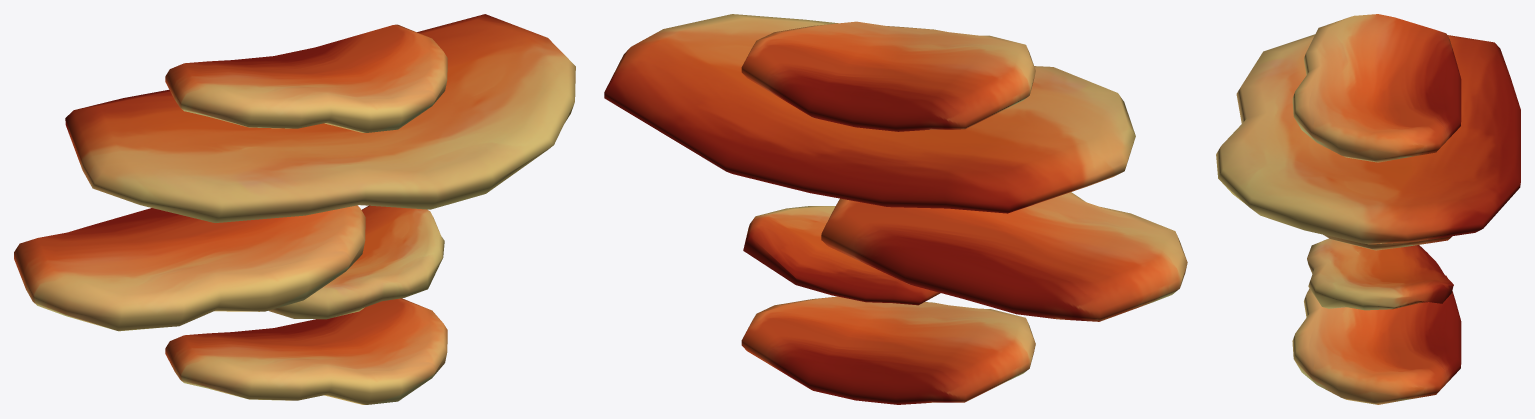
Rendered from MushroomWallFungus3_Deco.fbx.
3 views of the same model, side by side, from view 1: azimuth 30°, elevation 25°; view 2: azimuth 150°, elevation 25°; view 3: azimuth 270°, elevation 25° (orthographic). The views are drawn at different scales.
Visible parts, largest first — view 1: MushroomWallFungus3; view 2: MushroomWallFungus3; view 3: MushroomWallFungus3.
Boxes of the visible parts, x1,y1,x2,y2 form: MushroomWallFungus3: (14, 14, 575, 404); MushroomWallFungus3: (604, 14, 1187, 404); MushroomWallFungus3: (1216, 14, 1520, 404).
Size of the model in its own units: 48.41 by 28.45 by 26.67.
